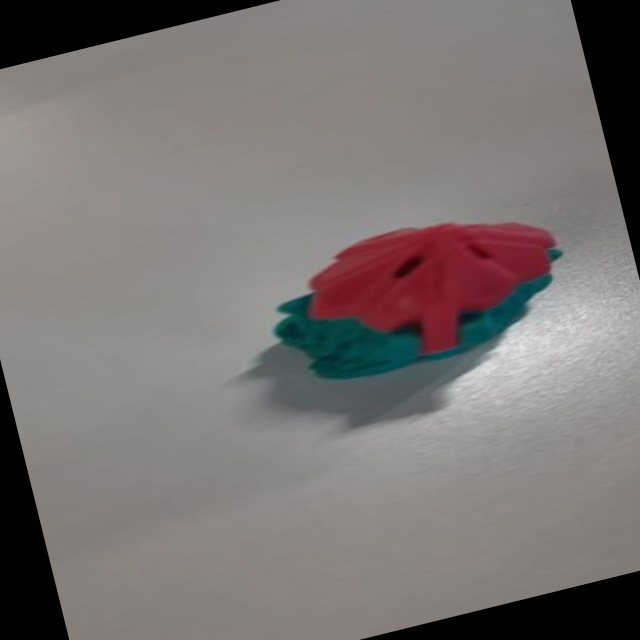House: (256, 186, 575, 403)
